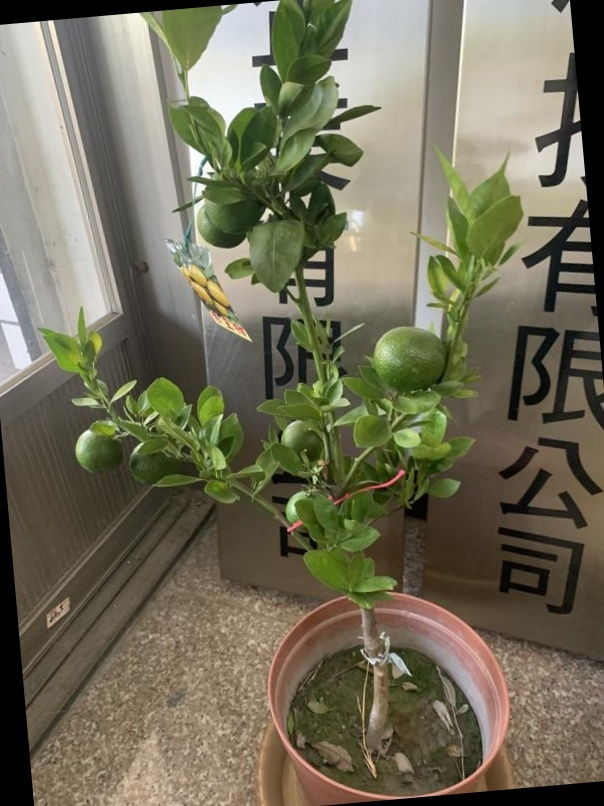Tangerine: (372, 319, 447, 393), (70, 423, 128, 472)
